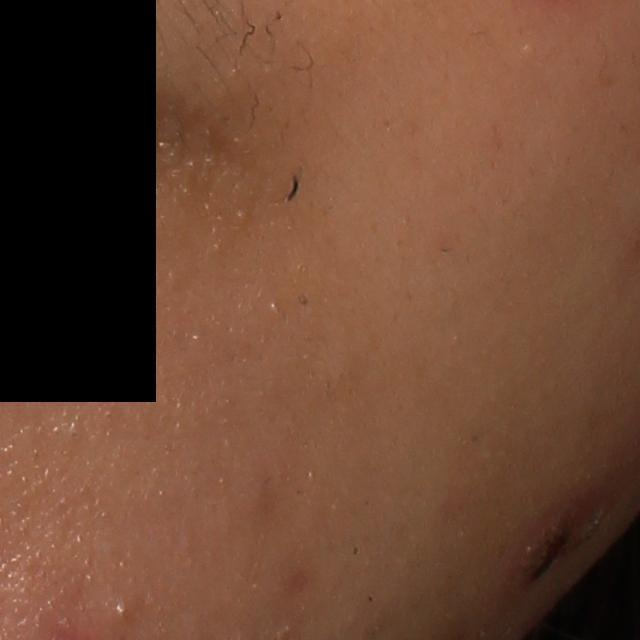comedo: (110, 596, 137, 622)
